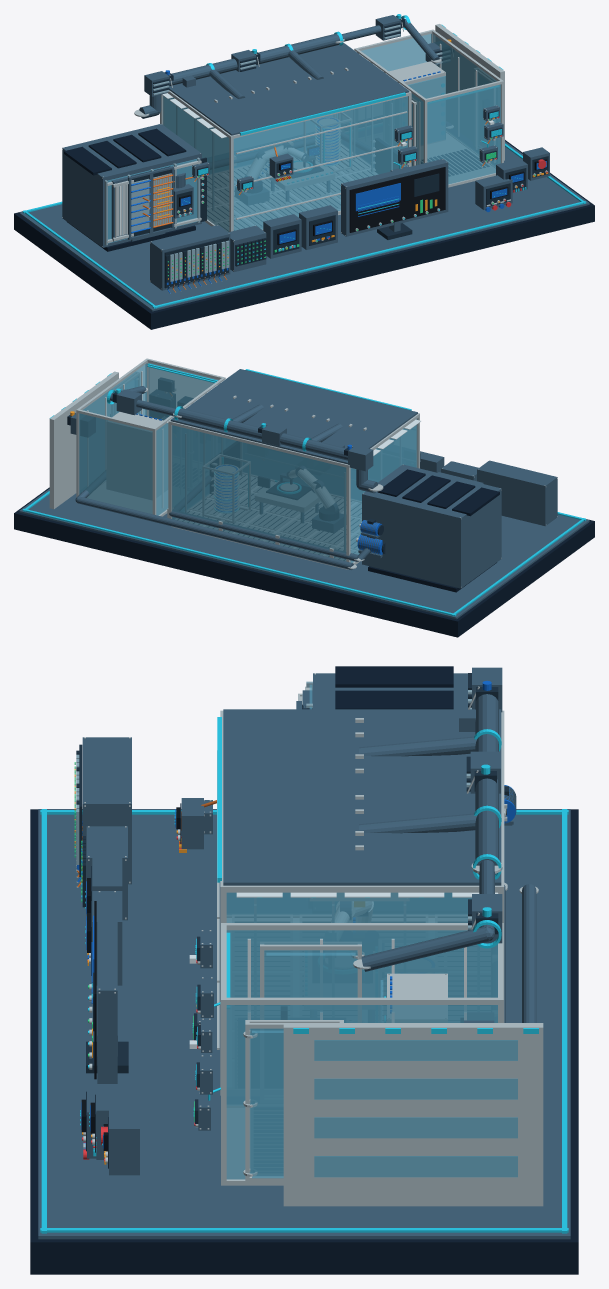
Rendered from Level70_Complete_ArtKit_Showcase.fbx.
3 renders of one model, top to bottom at view 1: azimuth 30°, elevation 25°; view 2: azimuth 150°, elevation 25°; view 3: azimuth 270°, elevation 25°, orthographic. The views are drawn at different scales.
Visible parts, largest first — view 1: Level70_Complete_ArtKit_Showcase; view 2: Level70_Complete_ArtKit_Showcase; view 3: Level70_Complete_ArtKit_Showcase.
Part boxes in pixels (<box>): Level70_Complete_ArtKit_Showcase: <box>14,14,594,329</box>; Level70_Complete_ArtKit_Showcase: <box>14,358,594,637</box>; Level70_Complete_ArtKit_Showcase: <box>30,666,578,1274</box>.
Bounding box in the file's own units: 1560 × 492 × 835.
